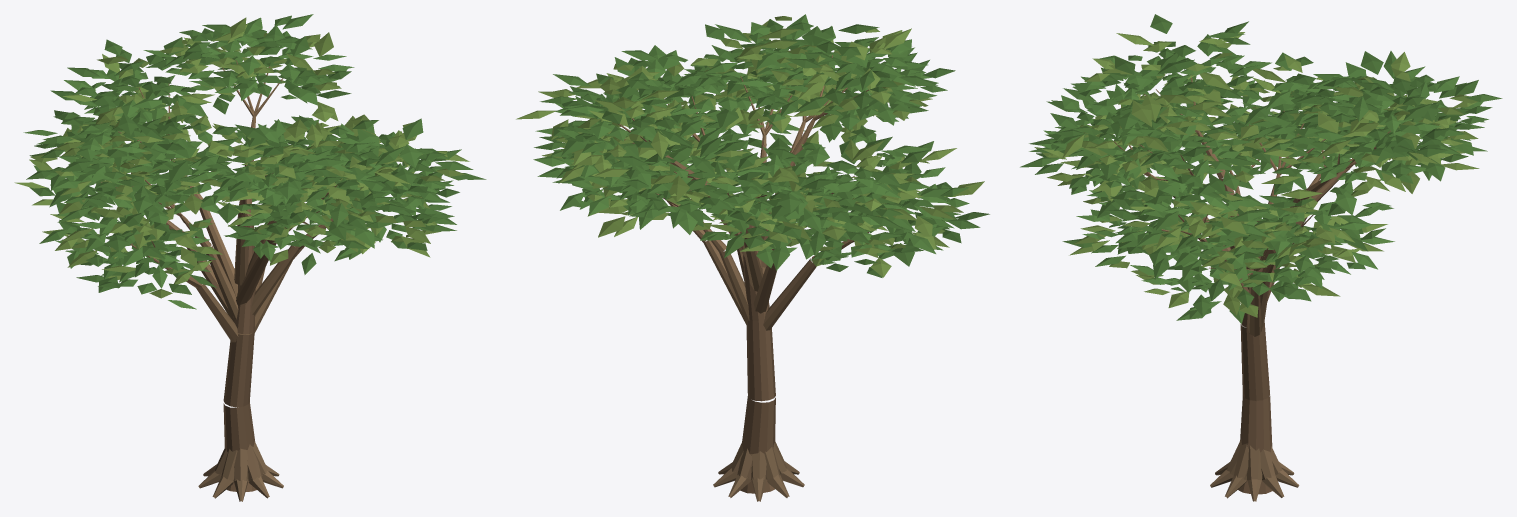
File: campus-shade-tree.glb
3 renders of one model, left to right at view 1: azimuth 30°, elevation 25°; view 2: azimuth 150°, elevation 25°; view 3: azimuth 270°, elevation 25°, orthographic. The views are drawn at different scales.
Parts seen in each view (by area): view 1: ShadeTree_Foliage, ShadeTree_Bark; view 2: ShadeTree_Foliage, ShadeTree_Bark; view 3: ShadeTree_Foliage, ShadeTree_Bark.
Part boxes in pixels (<box>): ShadeTree_Foliage: <box>14,14,486,309</box>; ShadeTree_Bark: <box>101,60,337,501</box>; ShadeTree_Foliage: <box>516,14,989,277</box>; ShadeTree_Bark: <box>618,55,881,501</box>; ShadeTree_Foliage: <box>1020,14,1502,323</box>; ShadeTree_Bark: <box>1114,75,1390,501</box>.
Size of the model in its own units: 7.43 by 7.17 by 7.6.
